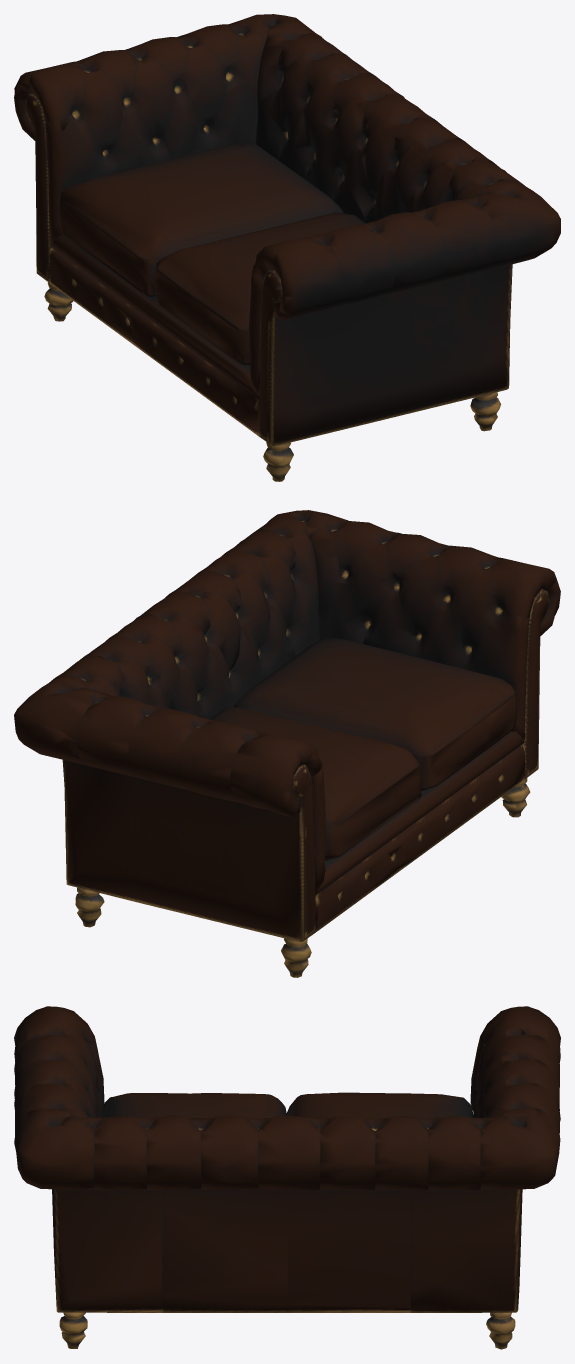
Rendered from SM_BrooklynSofa_Big.fbx.
3 renders of one model, top to bottom at view 1: azimuth 30°, elevation 25°; view 2: azimuth 150°, elevation 25°; view 3: azimuth 270°, elevation 25°, orthographic. The views are drawn at different scales.
Parts seen in each view (by area): view 1: SM_BrooklynSofa_Big_LOD0; view 2: SM_BrooklynSofa_Big_LOD0; view 3: SM_BrooklynSofa_Big_LOD0.
Boxes of the visible parts, <box> form: SM_BrooklynSofa_Big_LOD0: <box>14,14,560,481</box>; SM_BrooklynSofa_Big_LOD0: <box>14,510,560,977</box>; SM_BrooklynSofa_Big_LOD0: <box>14,1006,560,1349</box>.
Size of the model in its own units: 143 by 244 by 116.
Materials: 1 (1 with a texture image).
